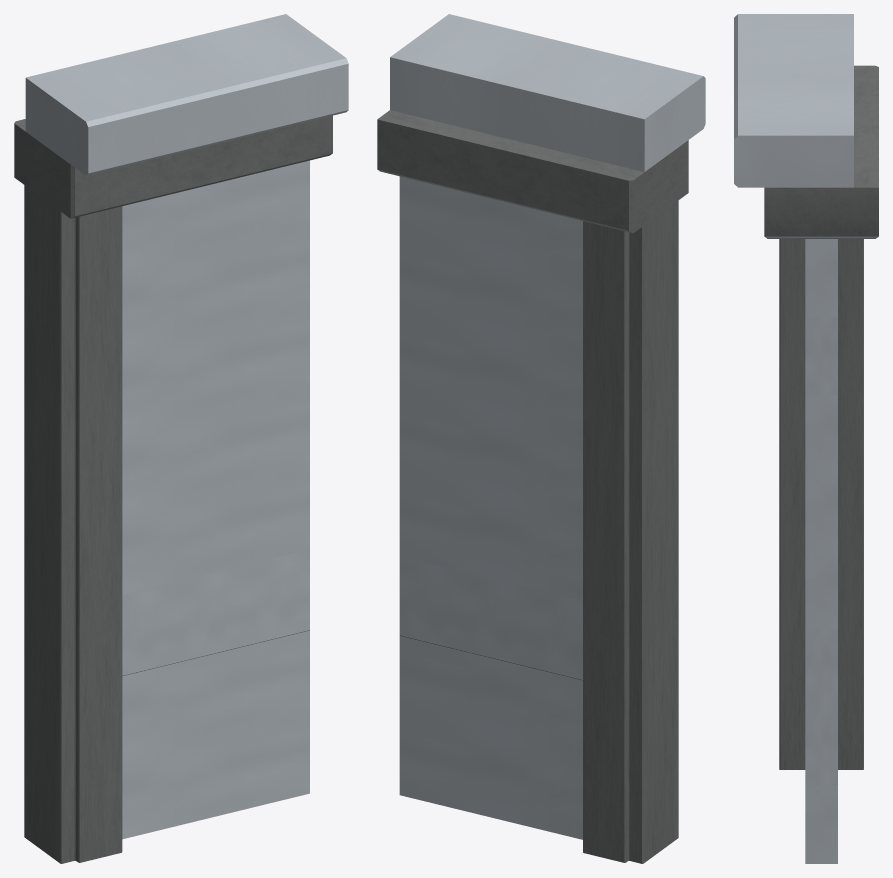
The model's file is ShuttersSegments_1.fbx.
The picture shows the model from 3 angles, left to right: view 1: azimuth 30°, elevation 25°; view 2: azimuth 150°, elevation 25°; view 3: azimuth 270°, elevation 25°; orthographic projection. The views are drawn at different scales.
Visible parts, largest first — view 1: ShuttersSegments_1; view 2: ShuttersSegments_1; view 3: ShuttersSegments_1.
Boxes of the visible parts, x1,y1,x2,y2 form: ShuttersSegments_1: [14, 14, 348, 863]; ShuttersSegments_1: [377, 14, 705, 863]; ShuttersSegments_1: [734, 14, 878, 863].
Size of the model in its own units: 1.01 by 2.81 by 0.5058.
